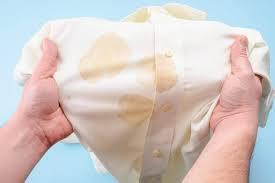mustard: (83, 32, 137, 84), (118, 87, 165, 141), (139, 56, 180, 96)
